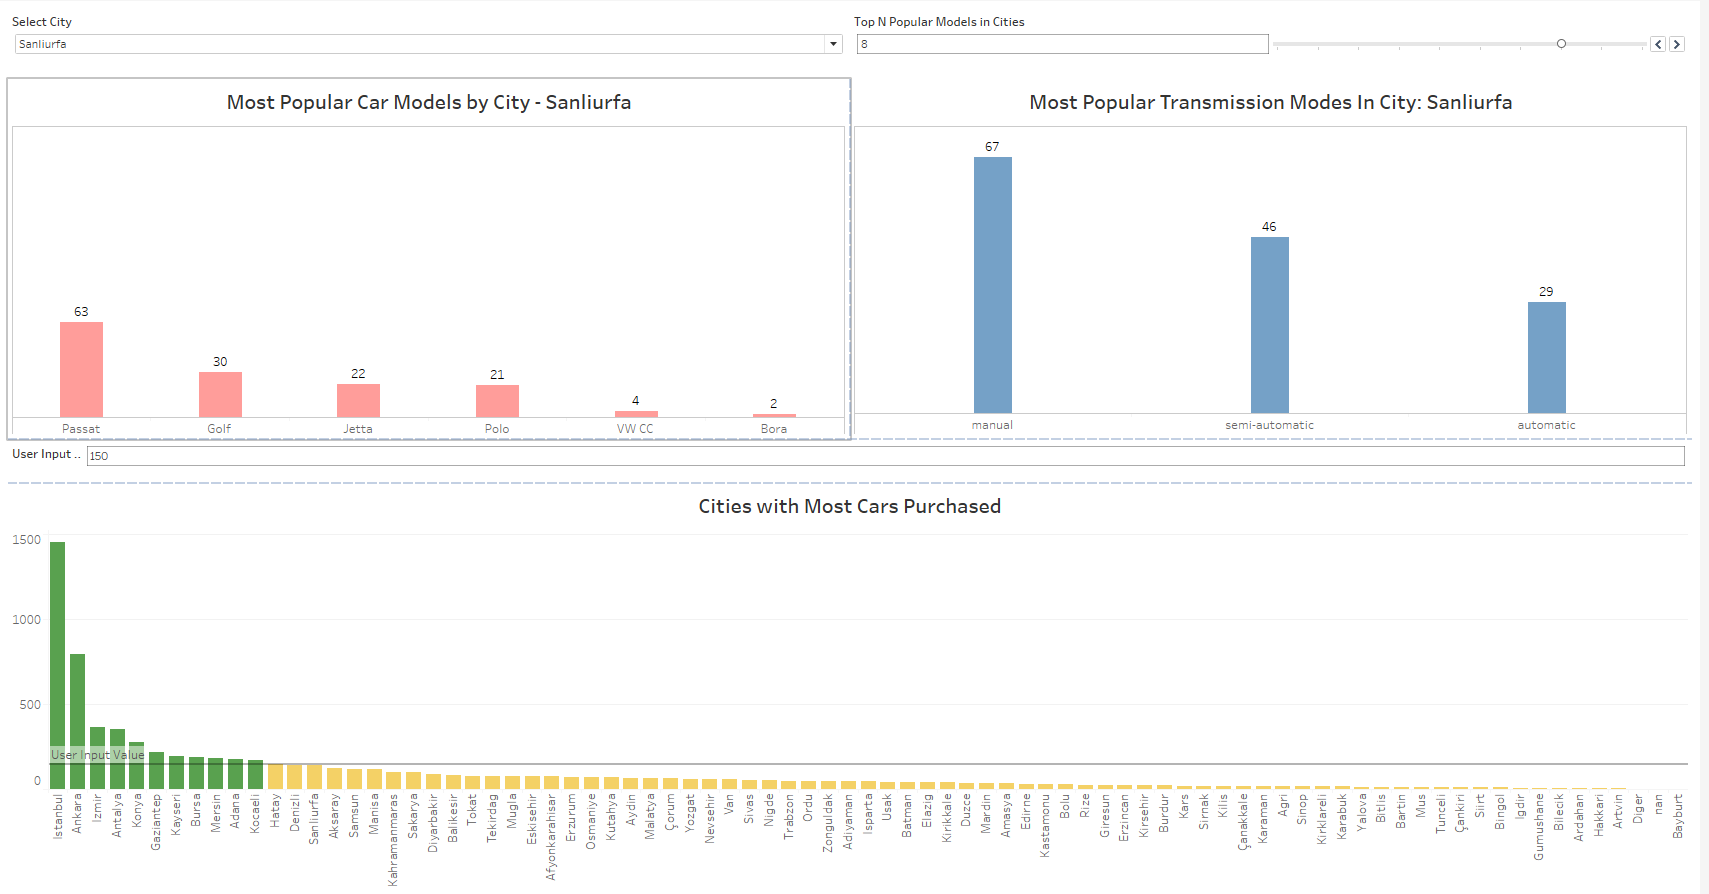

The page's visual inventory and layout, read from the dashboard file:
{"tool":"tableau","page":{"name":"Dashboard 2","canvas":[1700,900],"ordinal":1},"visuals":[{"type":"parameter","param":"[Parameters].[Parameter 1]","box":[8,8,842,70]},{"type":"parameter","param":"[Parameters].[Parameter 5]","box":[850,8,842,70]},{"type":"worksheet","title":"Most Popular Car Models by City","mark":"Automatic","rows":["online_car-sales.csv_74739E8E8975451BBF484375807F37F0"],"cols":["city","model"],"box":[8,78,842,360]},{"type":"worksheet","title":"Most Popular Transmission Modes In City","mark":"Automatic","rows":["online_car-sales.csv_74739E8E8975451BBF484375807F37F0"],"cols":["city","transmission"],"box":[850,78,842,360]},{"type":"parameter","param":"[Parameters].[Parameter 6]","box":[8,438,1684,44]},{"type":"worksheet","title":"Cities with Most Cars Purchased","mark":"Automatic","rows":["online_car-sales.csv_74739E8E8975451BBF484375807F37F0"],"cols":["city"],"box":[8,482,1684,410]}]}

Visuals, with their boxes in screenshot pixels (x1, y1, x2, y2), scaled from the page's 1700x900 canvas onto the 1709x894 screenshot:
parameter: bbox=(8, 8, 855, 77)
parameter: bbox=(855, 8, 1701, 77)
"Most Popular Car Models by City" worksheet: bbox=(8, 77, 855, 435)
"Most Popular Transmission Modes In City" worksheet: bbox=(855, 77, 1701, 435)
parameter: bbox=(8, 435, 1701, 479)
"Cities with Most Cars Purchased" worksheet: bbox=(8, 479, 1701, 886)
